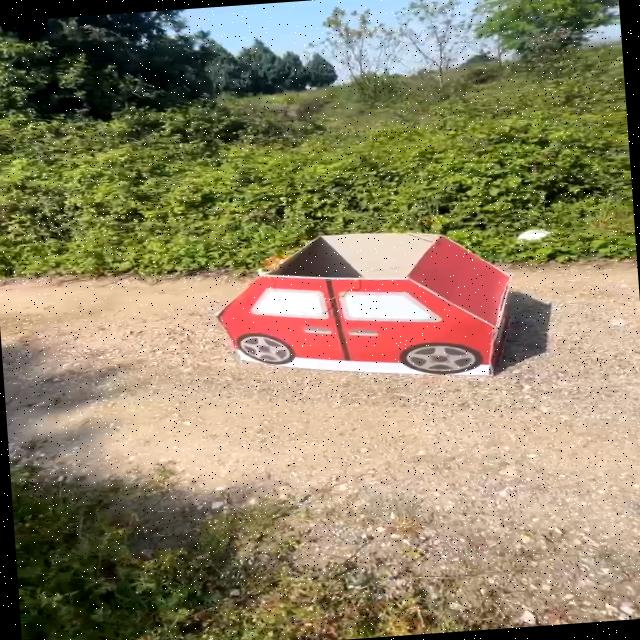red_car: (174, 213, 561, 409)
